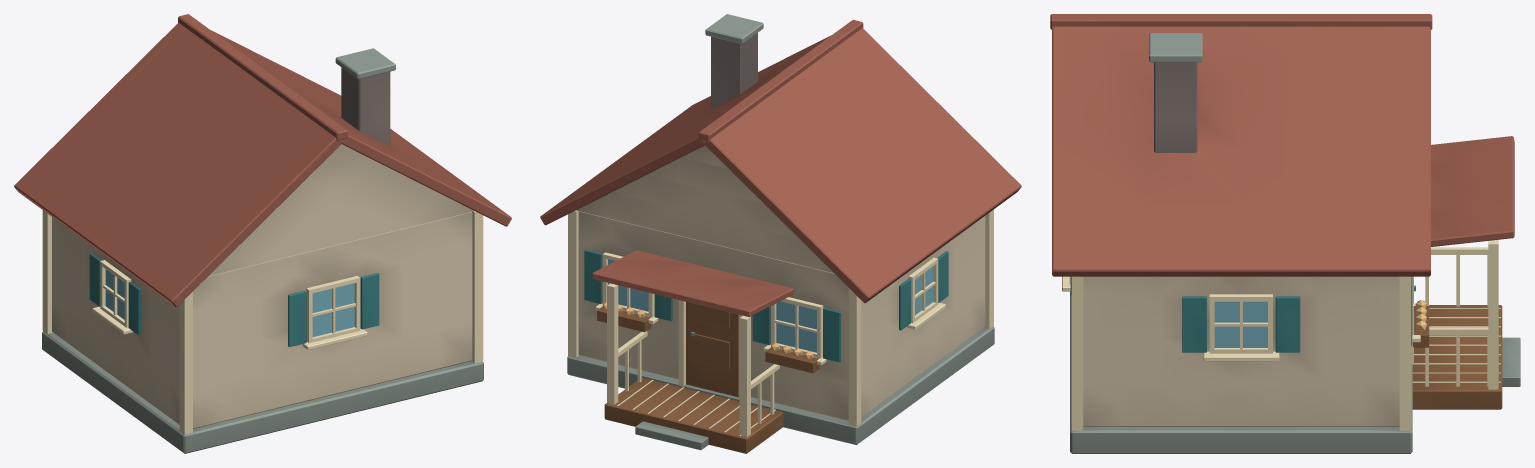
The model's file is sm_arch_delivery_house_cottage.glb.
The picture shows the model from 3 angles, left to right: view 1: azimuth 30°, elevation 25°; view 2: azimuth 150°, elevation 25°; view 3: azimuth 270°, elevation 25°; orthographic projection. The views are drawn at different scales.
Parts seen in each view (by area): view 1: HouseWalls, Roof, RoofGable.001, Foundation, Roof.001, Chimney, RoofRidge, CornerBoard, CornerBoard.002, WindowGlass.002, ChimneyCap, CornerBoard.001 (+5 smaller); view 2: Roof, HouseWalls, RoofGable, Foundation, Porch, PorchRoof, Roof.001, FrontDoor, Chimney, RoofRidge, CornerBoard.001, CornerBoard.003 (+18 smaller); view 3: Roof.001, HouseWalls, Foundation, PorchRoof, Porch, RoofRidge, Chimney, WindowGlass.004, CornerBoard.002, CornerBoard.003, PorchPost.001, ChimneyCap (+6 smaller).
Part boxes in pixels (x1,y1,x2,y2): HouseWalls: (52, 212, 472, 428); Roof: (14, 22, 342, 307); RoofGable.001: (209, 144, 474, 275); Foundation: (42, 331, 483, 453); Roof.001: (211, 30, 511, 226); Chimney: (341, 67, 390, 146); RoofRidge: (178, 14, 347, 140); CornerBoard: (179, 291, 192, 434); CornerBoard.002: (471, 211, 483, 363); WindowGlass.002: (312, 283, 354, 336); ChimneyCap: (335, 48, 395, 79); CornerBoard.001: (42, 210, 52, 333); Roof: (704, 28, 1021, 303); HouseWalls: (578, 211, 985, 420); RoofGable: (576, 145, 833, 273); Foundation: (567, 326, 994, 444); Porch: (604, 377, 783, 453); PorchRoof: (592, 250, 793, 316); Roof.001: (540, 35, 831, 225); FrontDoor: (686, 302, 738, 397); Chimney: (711, 33, 757, 108); RoofRidge: (698, 19, 863, 142); CornerBoard.001: (848, 288, 861, 426); CornerBoard.003: (568, 210, 578, 357); Roof.001: (1052, 26, 1430, 276); HouseWalls: (1083, 276, 1399, 426); Foundation: (1070, 291, 1412, 453); PorchRoof: (1431, 136, 1514, 246); Porch: (1412, 305, 1502, 409); RoofRidge: (1050, 14, 1432, 29); Chimney: (1154, 62, 1197, 152); WindowGlass.004: (1214, 301, 1267, 347); CornerBoard.002: (1071, 276, 1083, 430); CornerBoard.003: (1399, 276, 1411, 430); PorchPost.001: (1488, 240, 1498, 389); ChimneyCap: (1149, 33, 1202, 62).
Bounding box in the file's own units: 6.46 × 5.56 × 6.45.
